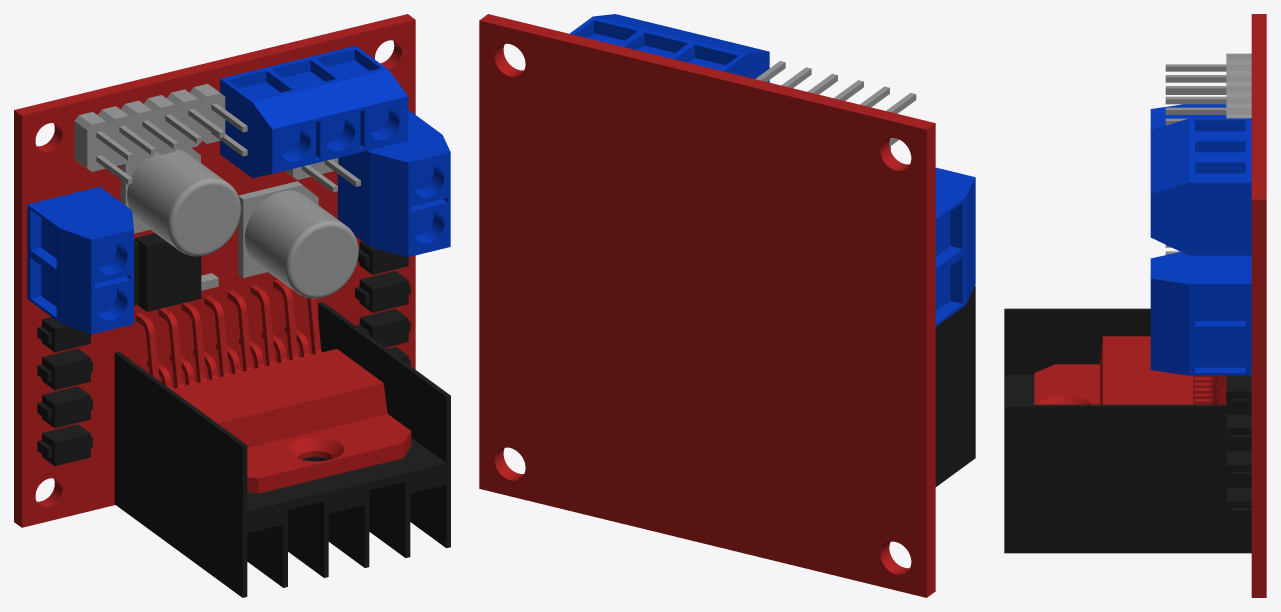
File: Ponte H - L298.dae
3 renders of one model, left to right at view 1: azimuth 30°, elevation 25°; view 2: azimuth 150°, elevation 25°; view 3: azimuth 270°, elevation 25°, orthographic. The views are drawn at different scales.
Visible parts, largest first — view 1: Node_00000125F8460060 (×4); view 2: Node_00000125F8460060 (×4); view 3: Node_00000125F8460060 (×4).
Boxes of the visible parts, <box> form: Node_00000125F8460060 (×4): <box>14,14,450,597</box>; Node_00000125F8460060 (×4): <box>479,14,975,597</box>; Node_00000125F8460060 (×4): <box>1004,14,1266,597</box>.
Size of the model in its own units: 0.0435 by 0.0435 by 0.026.
